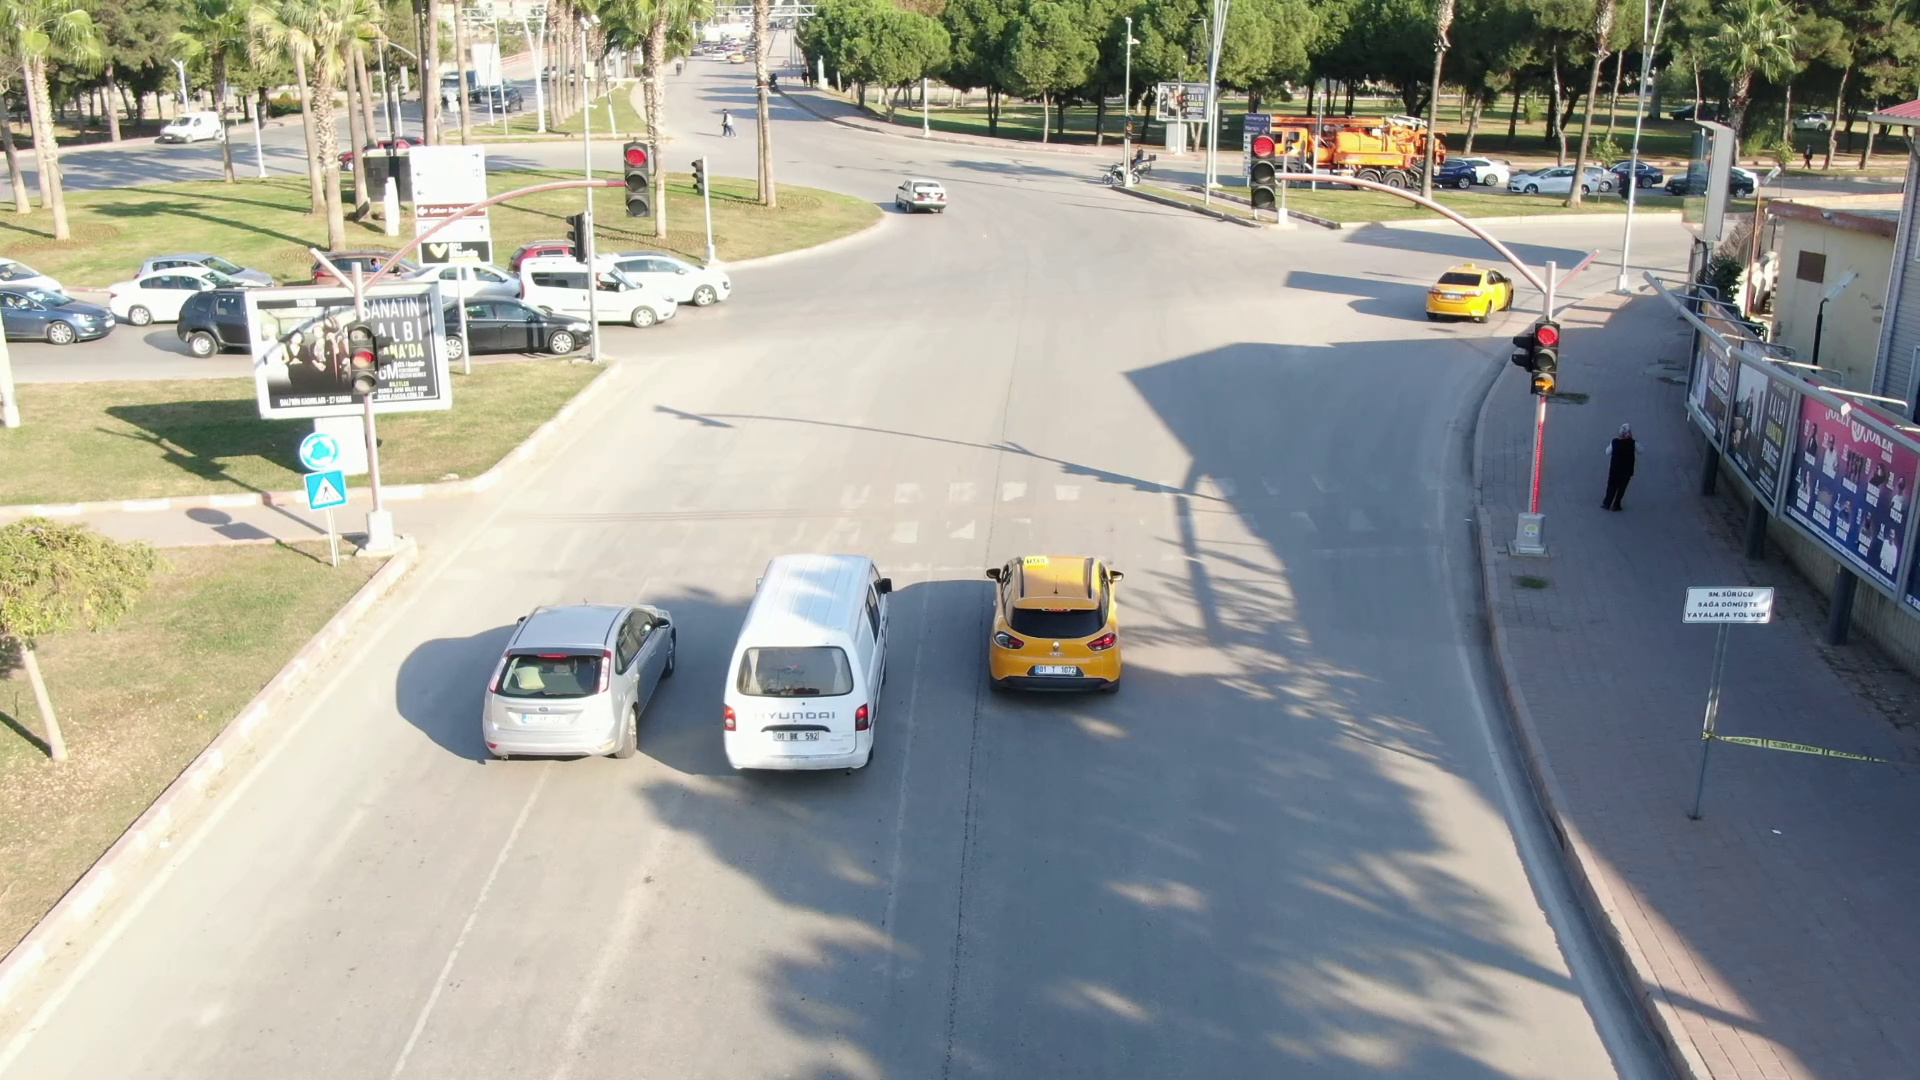car: (710, 543, 906, 792), (469, 578, 682, 765), (968, 537, 1141, 702), (506, 245, 670, 327), (441, 286, 606, 355), (1417, 241, 1508, 331), (594, 249, 731, 298), (894, 168, 955, 214)
person: (1600, 408, 1647, 519)
